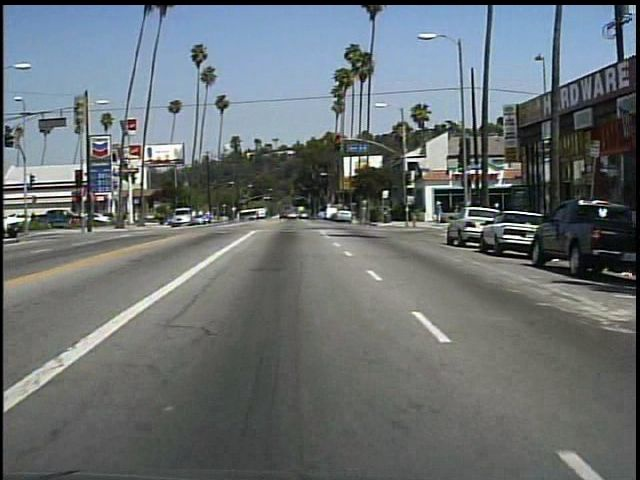person: (432, 197, 448, 225)
